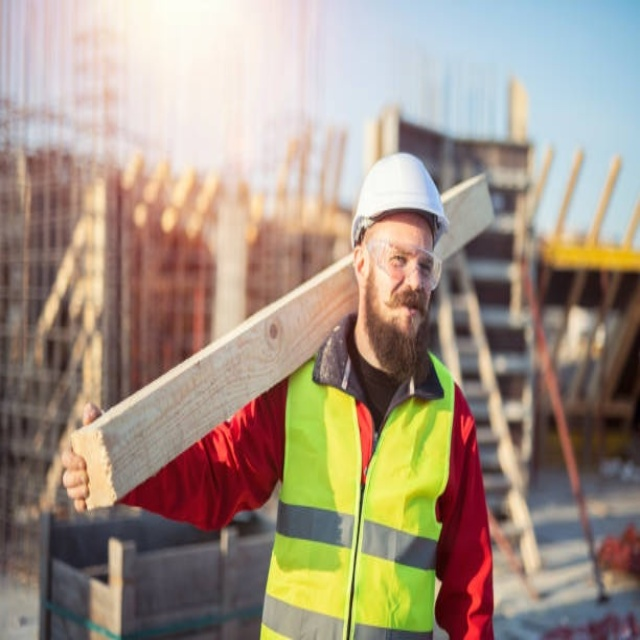Gafas: (364, 236, 442, 296)
Sin_guantes: (63, 403, 105, 512)
Sin_mascara: (390, 293, 427, 340)
